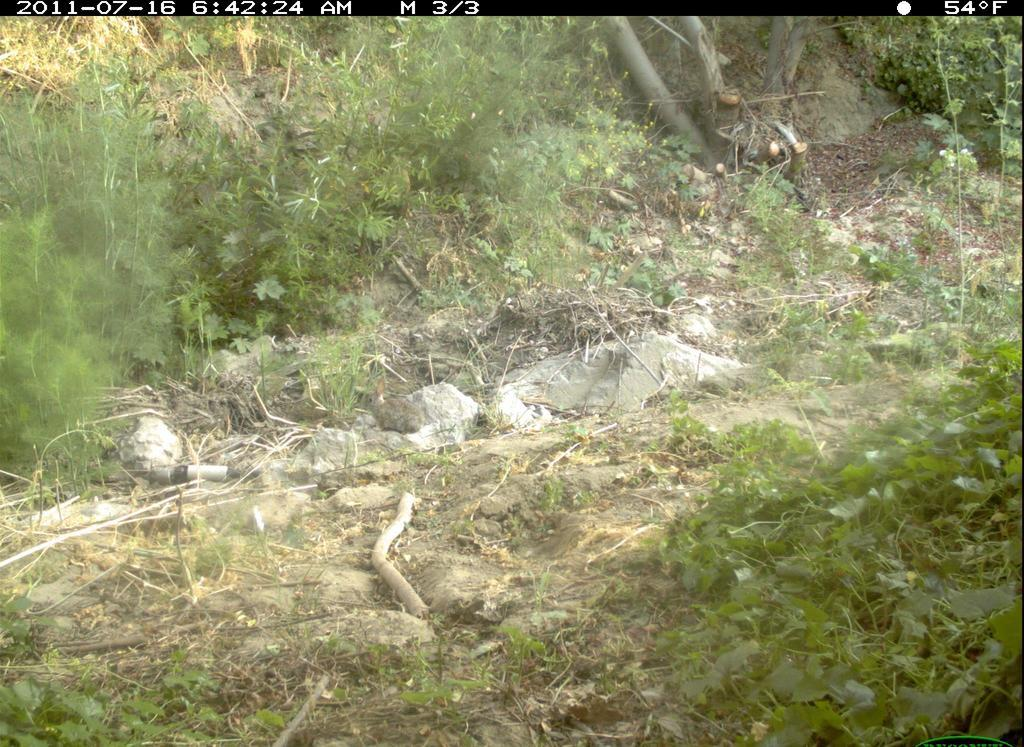rabbit: (358, 375, 433, 439)
